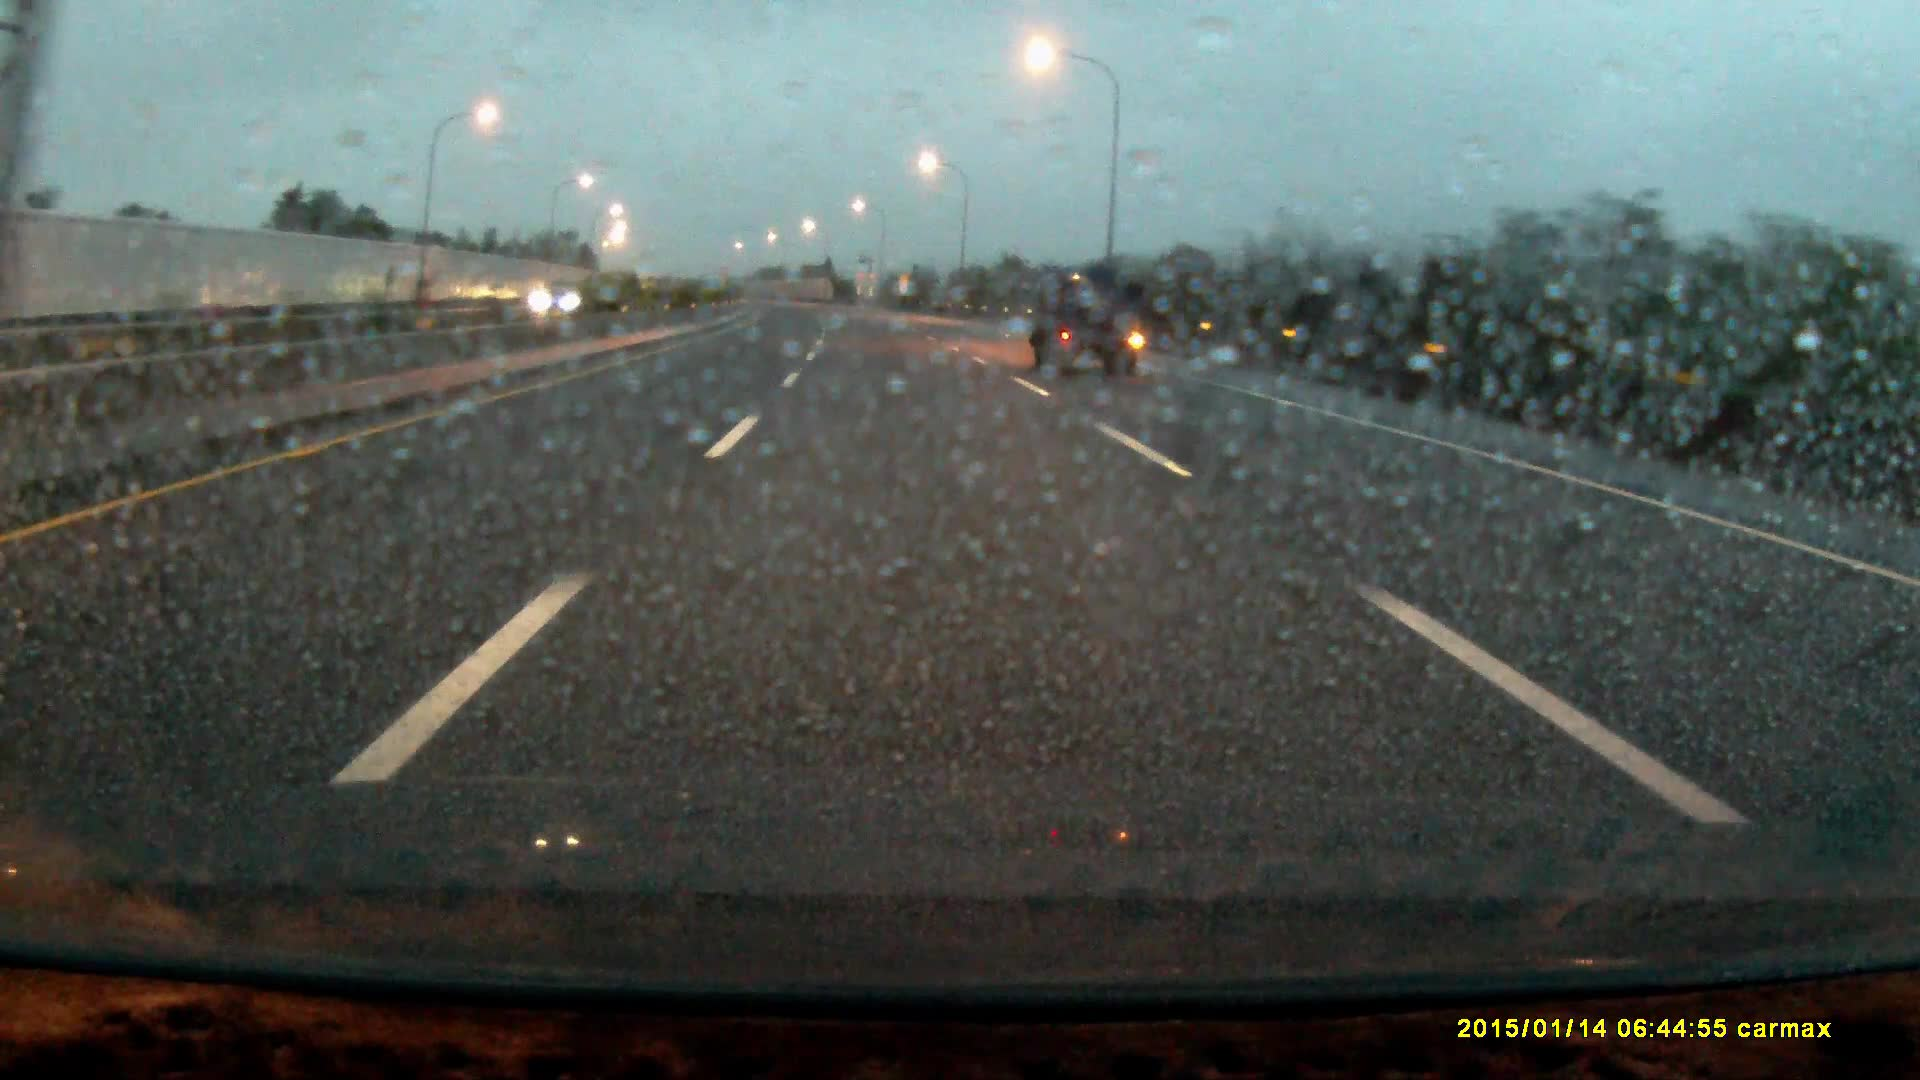vehicle: (1034, 272, 1142, 378), (537, 284, 591, 316)
